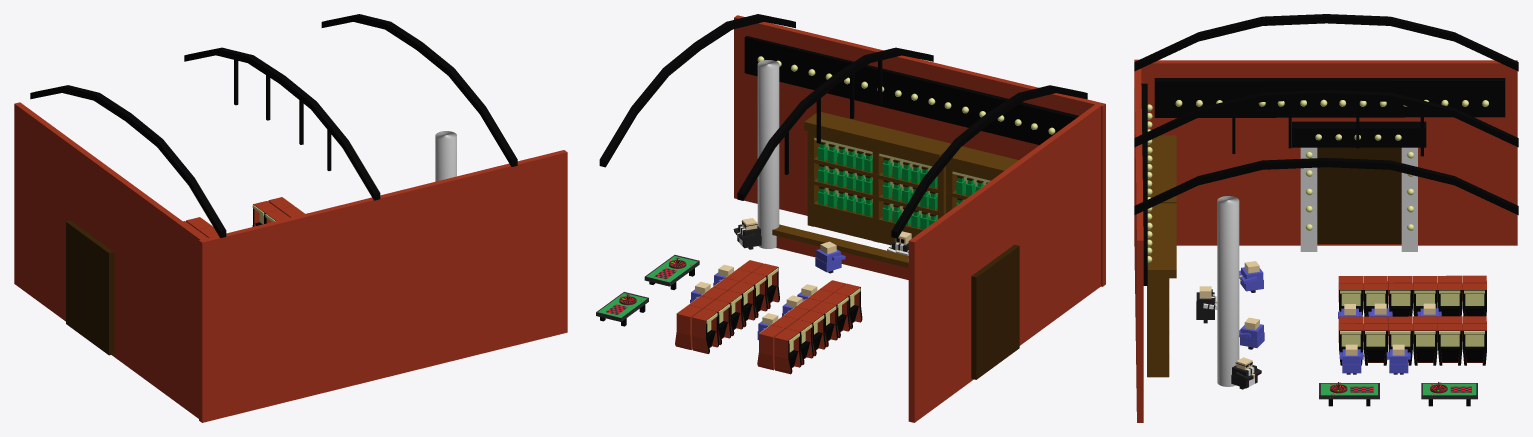
Rendered from MesaRuleta.fbx.
3 renders of one model, left to right at view 1: azimuth 30°, elevation 25°; view 2: azimuth 150°, elevation 25°; view 3: azimuth 270°, elevation 25°, orthographic.
Visible parts, largest first — view 1: Cube.186, Cube.136, Cube.183, Cube.222, Cube.223, Cube.135, Cylinder.007; view 2: Cube.136, Cube.186, Cube.228, Cube.183, Cylinder.007, Cube.014, Cube.007, Cube.222, Cube.223, Cube.135, Cube.012, Cube.142 (+21 smaller); view 3: Cube.136, Cube.229, Cube.183, Cylinder.007, Cube.135, Cube.223, Cube.222, Cube.185, Cube.184, Cube.186, Cube.014, Cube.009 (+22 smaller).
Boxes of the visible parts, x1=… form: Cube.186: x1=199, y1=150, x2=567, y2=422; Cube.136: x1=14, y1=102, x2=205, y2=418; Cube.183: x1=66, y1=220, x2=114, y2=355; Cube.222: x1=184, y1=47, x2=380, y2=200; Cube.223: x1=30, y1=85, x2=226, y2=237; Cube.135: x1=321, y1=14, x2=517, y2=166; Cylinder.007: x1=435, y1=131, x2=456, y2=181; Cube.136: x1=908, y1=104, x2=1100, y2=422; Cube.186: x1=734, y1=15, x2=1105, y2=286; Cube.228: x1=744, y1=36, x2=1078, y2=144; Cube.183: x1=971, y1=244, x2=1019, y2=379; Cylinder.007: x1=757, y1=60, x2=779, y2=248; Cube.014: x1=804, y1=112, x2=950, y2=166; Cube.007: x1=772, y1=224, x2=908, y2=279; Cube.222: x1=737, y1=47, x2=933, y2=200; Cube.223: x1=891, y1=85, x2=1087, y2=238; Cube.135: x1=599, y1=14, x2=795, y2=167; Cube.012: x1=807, y1=201, x2=923, y2=245; Cube.142: x1=946, y1=146, x2=1018, y2=180; Cube.136: x1=1141, y1=60, x2=1517, y2=245; Cube.229: x1=1154, y1=78, x2=1505, y2=117; Cube.183: x1=1317, y1=147, x2=1401, y2=243; Cylinder.007: x1=1217, y1=196, x2=1239, y2=386; Cube.135: x1=1134, y1=157, x2=1518, y2=215; Cube.223: x1=1134, y1=14, x2=1518, y2=71; Cube.222: x1=1134, y1=90, x2=1518, y2=147; Cube.185: x1=1292, y1=121, x2=1426, y2=147; Cube.184: x1=1300, y1=147, x2=1417, y2=251; Cube.186: x1=1134, y1=59, x2=1143, y2=422; Cube.014: x1=1147, y1=203, x2=1176, y2=286; Cube.009: x1=1147, y1=285, x2=1168, y2=377.
Bounding box in the file's own units: 12181 × 7365 × 10821.
